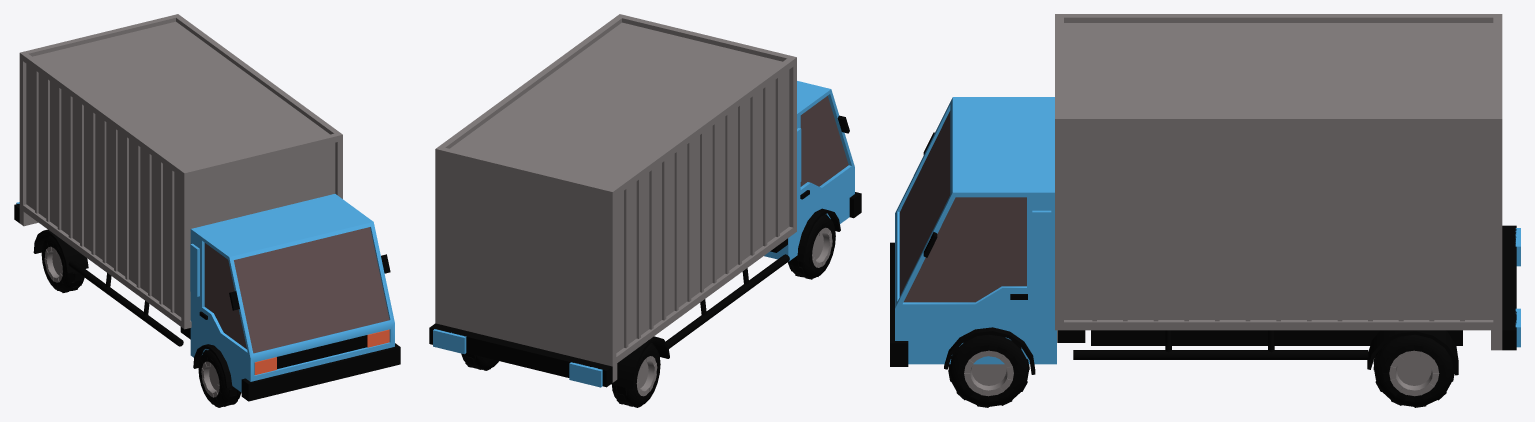
The model's file is Truck4 .fbx.
3 renders of one model, left to right at view 1: azimuth 30°, elevation 25°; view 2: azimuth 150°, elevation 25°; view 3: azimuth 270°, elevation 25°, orthographic. The views are drawn at different scales.
Parts seen in each view (by area): view 1: body.012, tyre.014, tyre.015; view 2: body.012, tyre.014, tyre.015, tyre.017; view 3: body.012, tyre.017, tyre.016.
Boxes of the visible parts, x1,y1,x2,y2 form: body.012: (14, 14, 400, 401); tyre.014: (198, 349, 241, 407); tyre.015: (41, 235, 84, 292); body.012: (429, 14, 861, 389); tyre.014: (787, 214, 835, 279); tyre.015: (612, 343, 660, 407); tyre.017: (461, 353, 498, 370); body.012: (890, 14, 1520, 375); tyre.017: (1373, 334, 1454, 407); tyre.016: (948, 334, 1029, 407).
Bounding box in the file's own units: 2.53 × 3.21 × 6.26.
